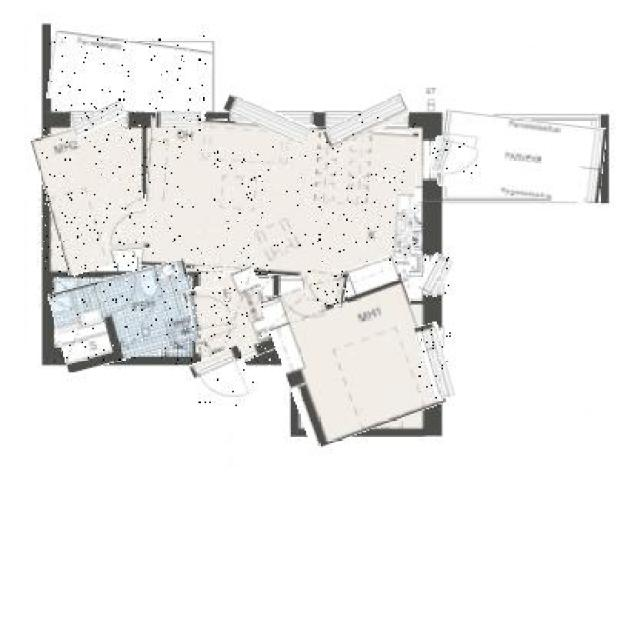door: (194, 349, 254, 411), (103, 211, 151, 251), (429, 138, 477, 178), (190, 288, 232, 330), (308, 270, 348, 308)
window: (323, 102, 409, 143), (223, 100, 311, 137), (418, 323, 451, 399), (71, 105, 126, 132), (420, 254, 449, 297), (155, 110, 200, 128)
zone: (144, 120, 416, 280), (271, 265, 435, 440), (40, 121, 151, 272), (51, 268, 200, 364), (440, 114, 605, 198), (49, 35, 211, 114), (190, 269, 278, 368)
